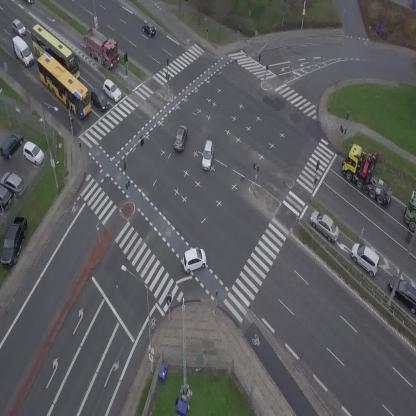bicycle: (68, 117, 75, 132)
bus: (28, 49, 100, 120), (22, 22, 89, 84)
car: (345, 239, 387, 279), (304, 207, 345, 244), (179, 245, 209, 274), (85, 86, 113, 113), (99, 78, 125, 103), (172, 124, 190, 152), (200, 139, 215, 171), (9, 18, 28, 38), (142, 21, 156, 38), (21, 0, 34, 5)
lorry: (334, 137, 398, 217), (75, 24, 127, 72), (6, 34, 37, 70), (404, 190, 416, 231)
